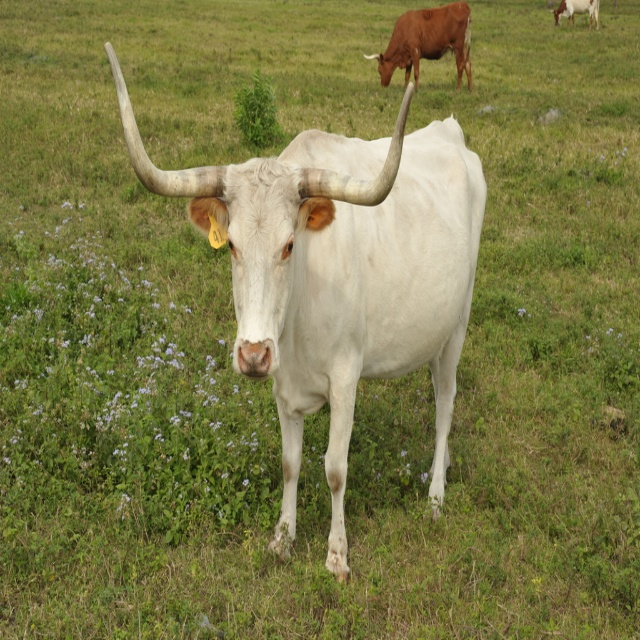Cattle: (104, 41, 487, 588), (363, 1, 472, 94), (550, 0, 599, 30)
